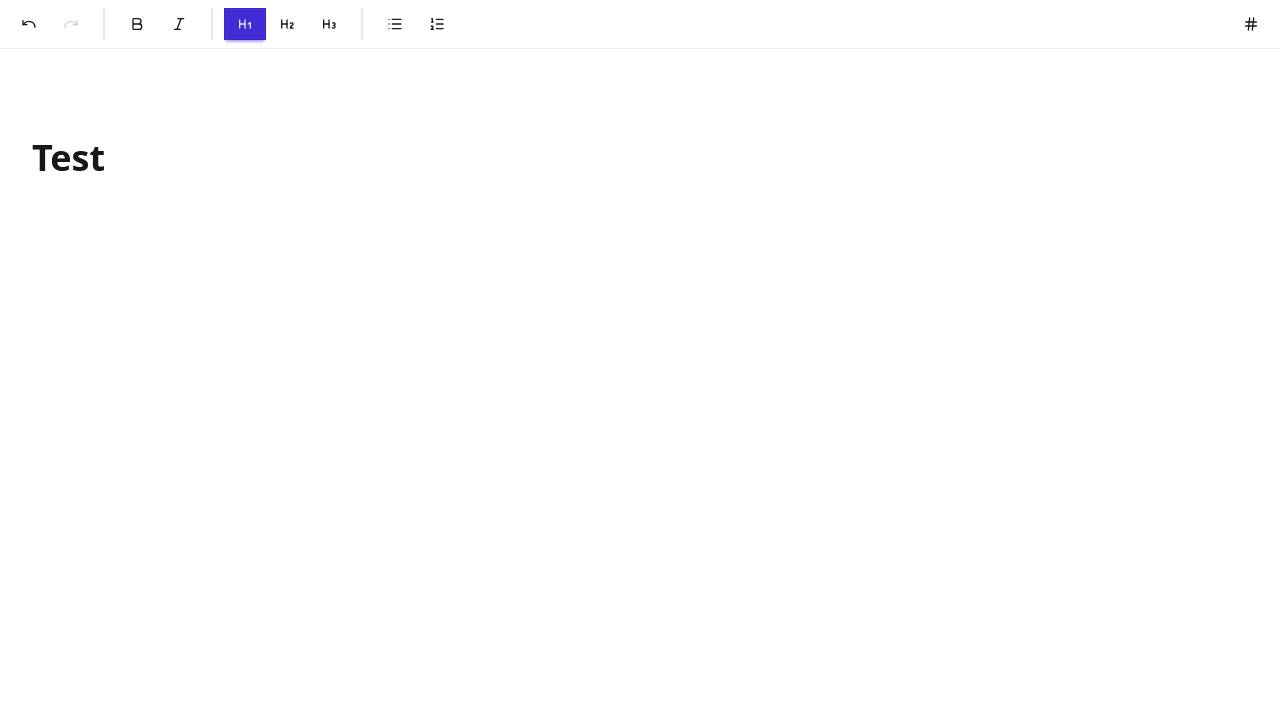
Test: EditorComponent - Toolbar Integration › markdown guide shows all expected sections
The image size is (1280, 720).
// Switch to markdown mode
Click the button titled "Switch to Markdown" at (1251, 24), box x1=1230 y1=8 x2=1272 y2=40
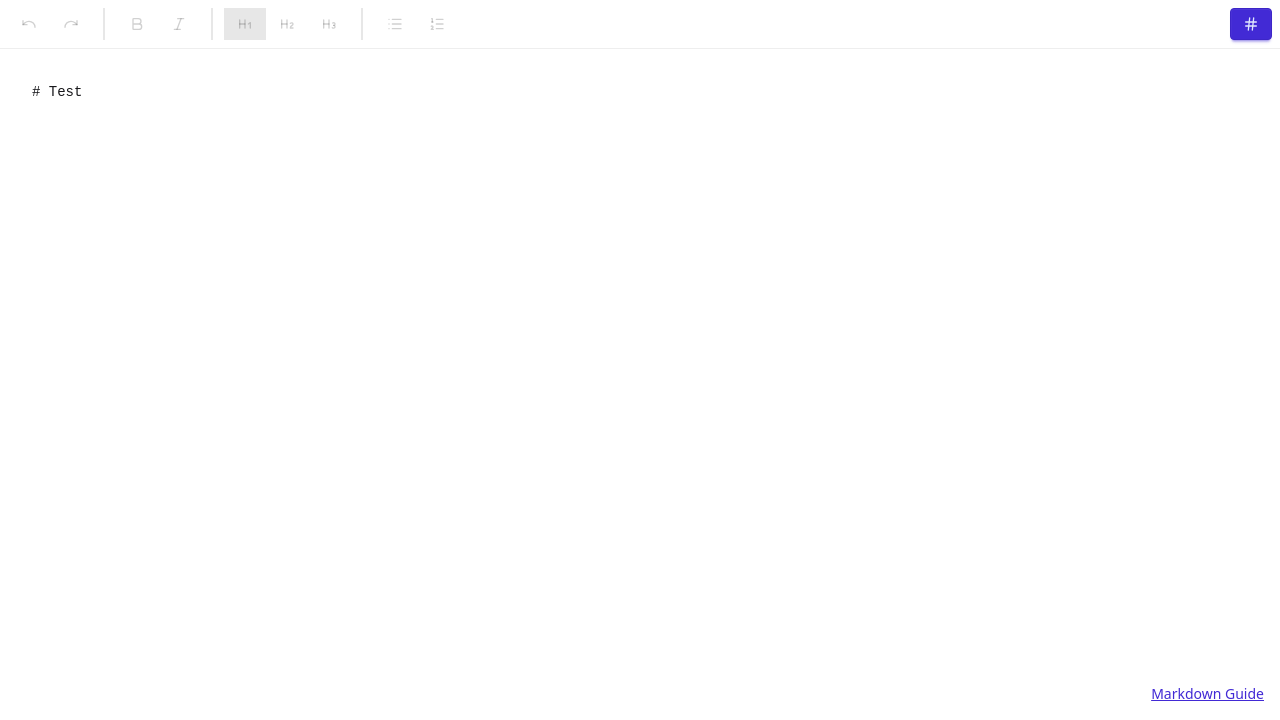
Expected: the button "Markdown Guide" is shown
Click the button "Markdown Guide" at (1208, 694), box x1=1151 y1=684 x2=1264 y2=704
(page scrolled)
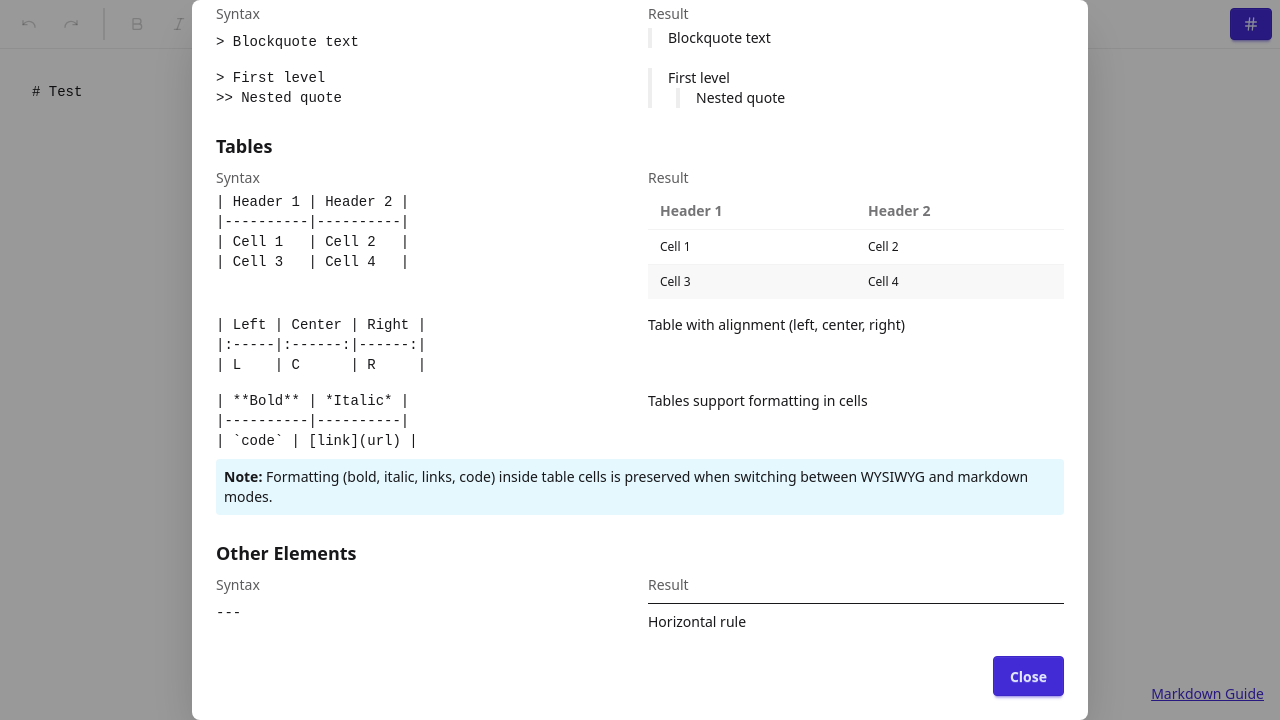
Expected: the heading "Tables" is shown, x1=216 y1=134 x2=272 y2=158
Expected: the heading "Other Elements" is shown, x1=216 y1=541 x2=357 y2=565
